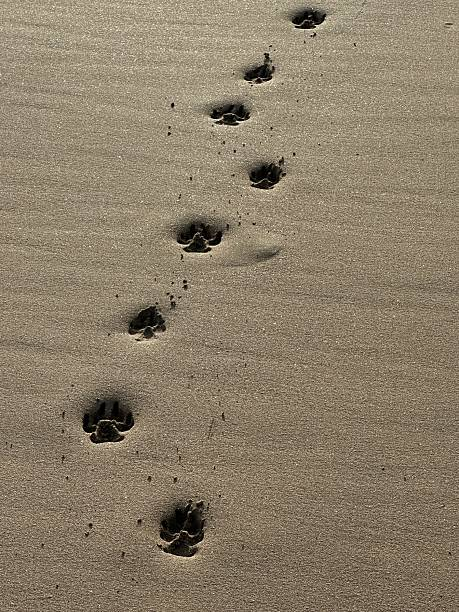animal_footprint: (159, 500, 204, 556), (83, 399, 133, 442), (177, 221, 222, 252), (128, 305, 165, 339), (250, 158, 285, 188), (244, 53, 275, 84), (210, 103, 249, 125), (291, 8, 325, 28)
